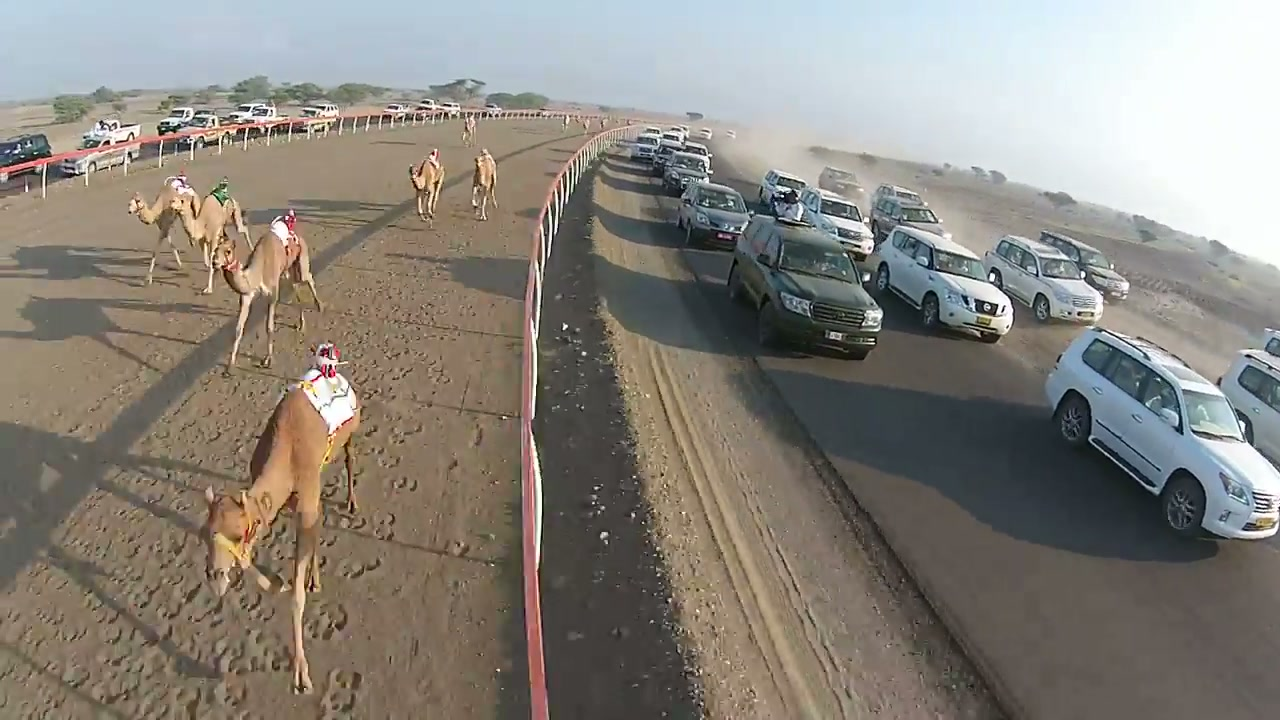animal_foot_print: (83, 403, 322, 719), (124, 627, 291, 719), (93, 623, 210, 680), (127, 682, 258, 719), (212, 628, 289, 676), (143, 639, 219, 679), (94, 633, 164, 676), (127, 683, 209, 719), (157, 575, 218, 621), (255, 496, 295, 553), (240, 628, 291, 672), (0, 691, 77, 719), (320, 670, 362, 719), (32, 607, 86, 643), (162, 576, 209, 617), (304, 601, 347, 640), (254, 536, 293, 577), (211, 636, 248, 676), (44, 660, 94, 689), (121, 579, 164, 611), (235, 591, 278, 622), (133, 687, 170, 719), (211, 678, 247, 710), (28, 566, 72, 592), (0, 662, 24, 707), (335, 557, 383, 579), (321, 475, 347, 514), (321, 479, 346, 515), (360, 404, 382, 441), (0, 609, 27, 639), (323, 513, 368, 531), (199, 706, 260, 719), (368, 445, 400, 469), (200, 612, 238, 631), (98, 622, 124, 649), (372, 511, 395, 540), (386, 425, 417, 445), (382, 365, 413, 382), (445, 540, 470, 557), (321, 481, 340, 503), (392, 475, 418, 491), (268, 654, 291, 672), (375, 454, 400, 469), (318, 532, 338, 548), (470, 424, 483, 447), (317, 554, 331, 575), (446, 456, 459, 472)
